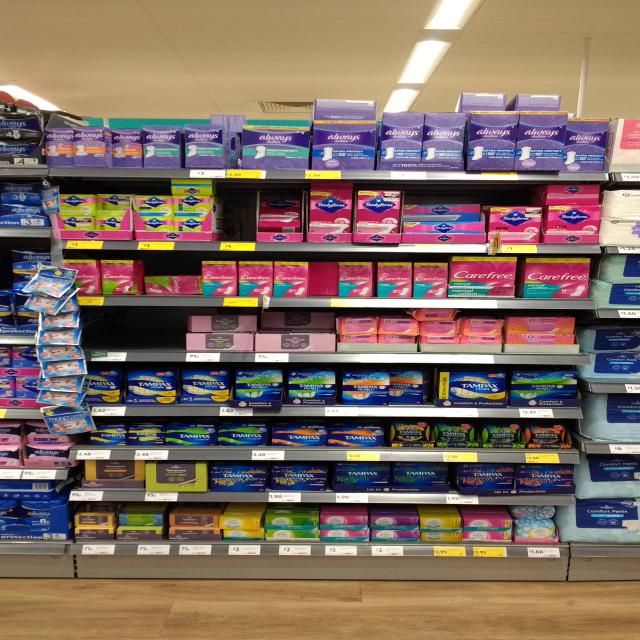unorganised: (257, 196, 301, 234), (260, 313, 335, 332), (387, 373, 430, 406), (310, 260, 338, 296)
